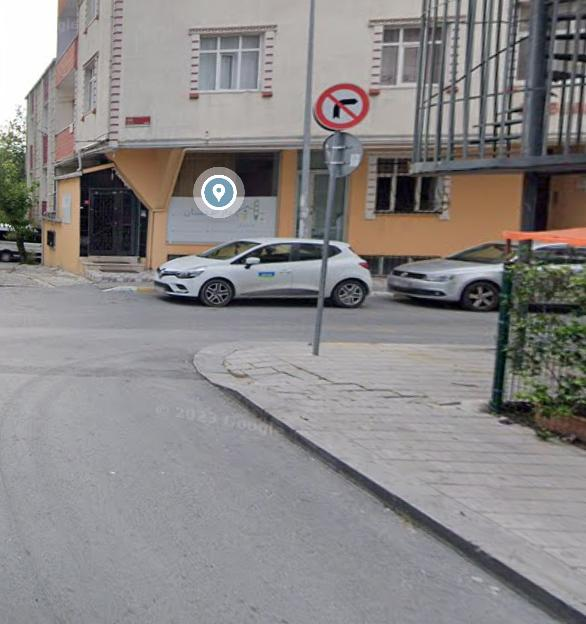rightturnsareforbidden: (314, 82, 369, 129)
